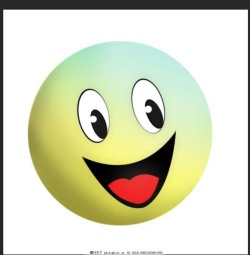ImgView: (1, 1, 249, 254)
